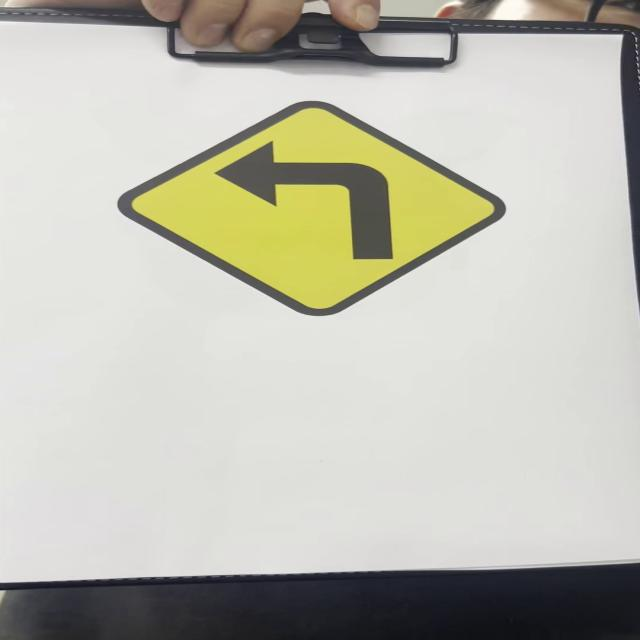left: (120, 95, 503, 318)
